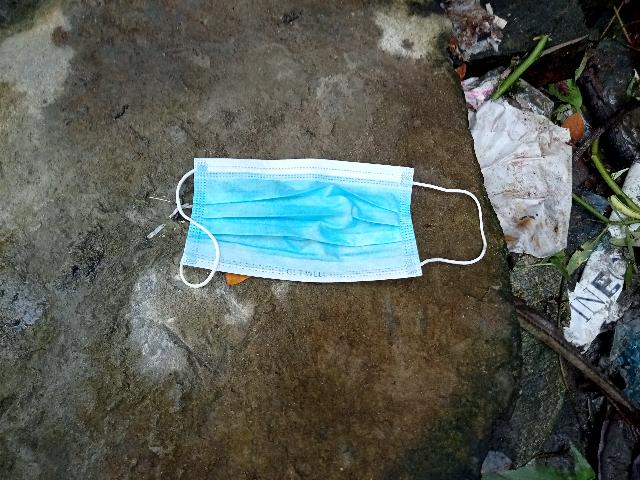mask: (179, 140, 433, 301)
